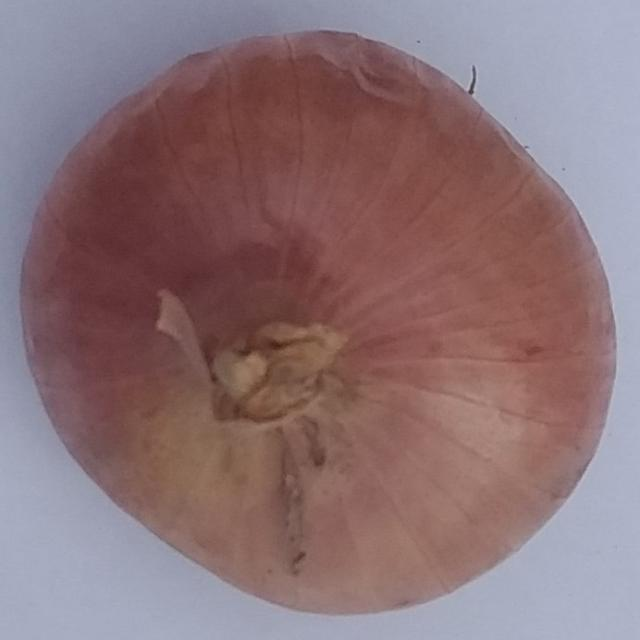onion: (14, 25, 620, 621)
